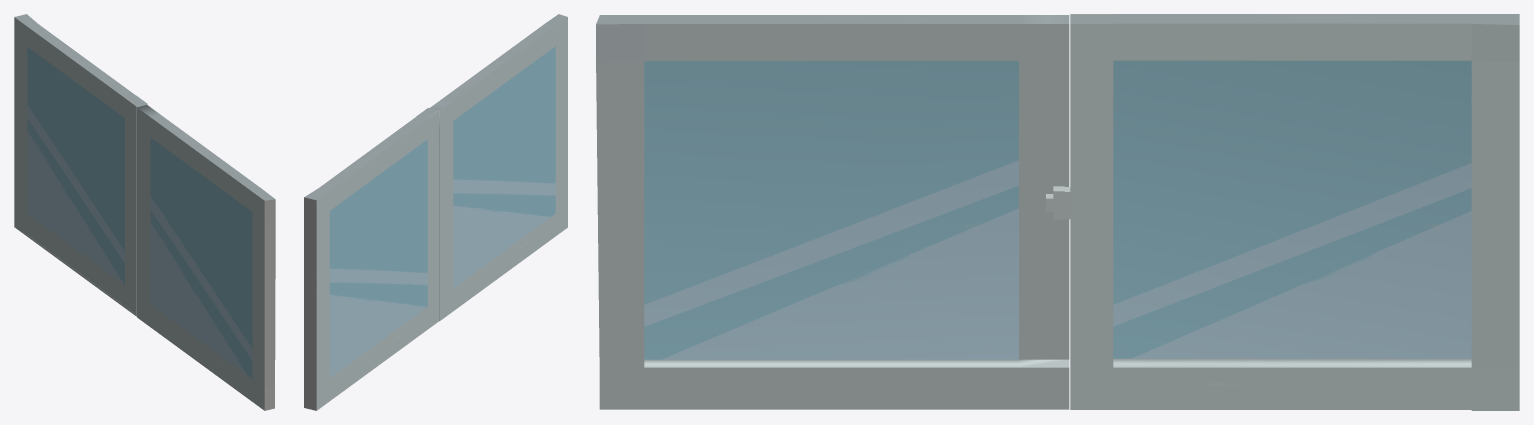
File: window_02.fbx
3 renders of one model, left to right at view 1: azimuth 30°, elevation 25°; view 2: azimuth 150°, elevation 25°; view 3: azimuth 270°, elevation 25°, orthographic. The views are drawn at different scales.
Visible parts, largest first — view 1: window_02_5; view 2: window_02_5; view 3: window_02_5.
Boxes of the visible parts, <box> form: window_02_5: <box>14,14,275,410</box>; window_02_5: <box>304,14,567,410</box>; window_02_5: <box>596,14,1519,410</box>.
Bounding box in the file's own units: 2.51 × 39.82 × 86.23.
